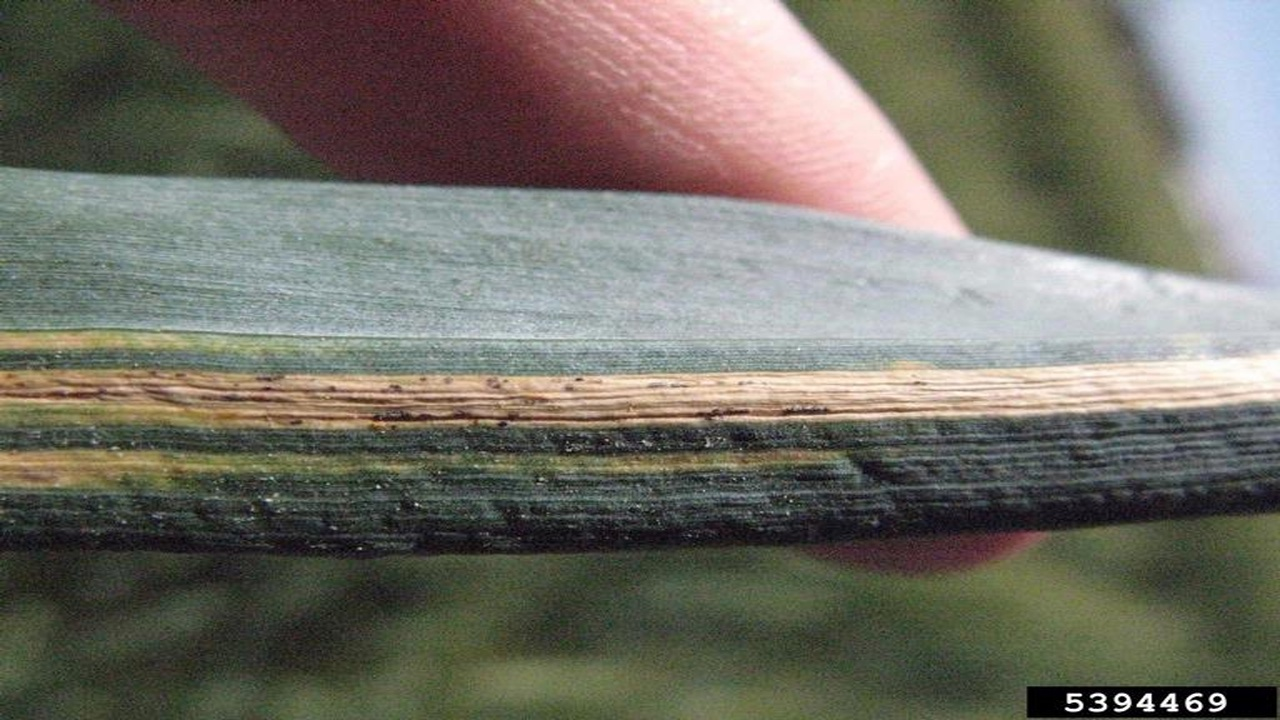stripe_rust: (1, 163, 1279, 553)
